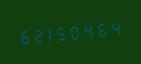five: (56, 21, 68, 44)
four: (108, 16, 120, 39), (82, 19, 94, 41)
one: (43, 22, 55, 45)
six: (17, 24, 29, 47), (95, 17, 107, 40)
two: (30, 23, 42, 46)
zero: (69, 20, 81, 43)
